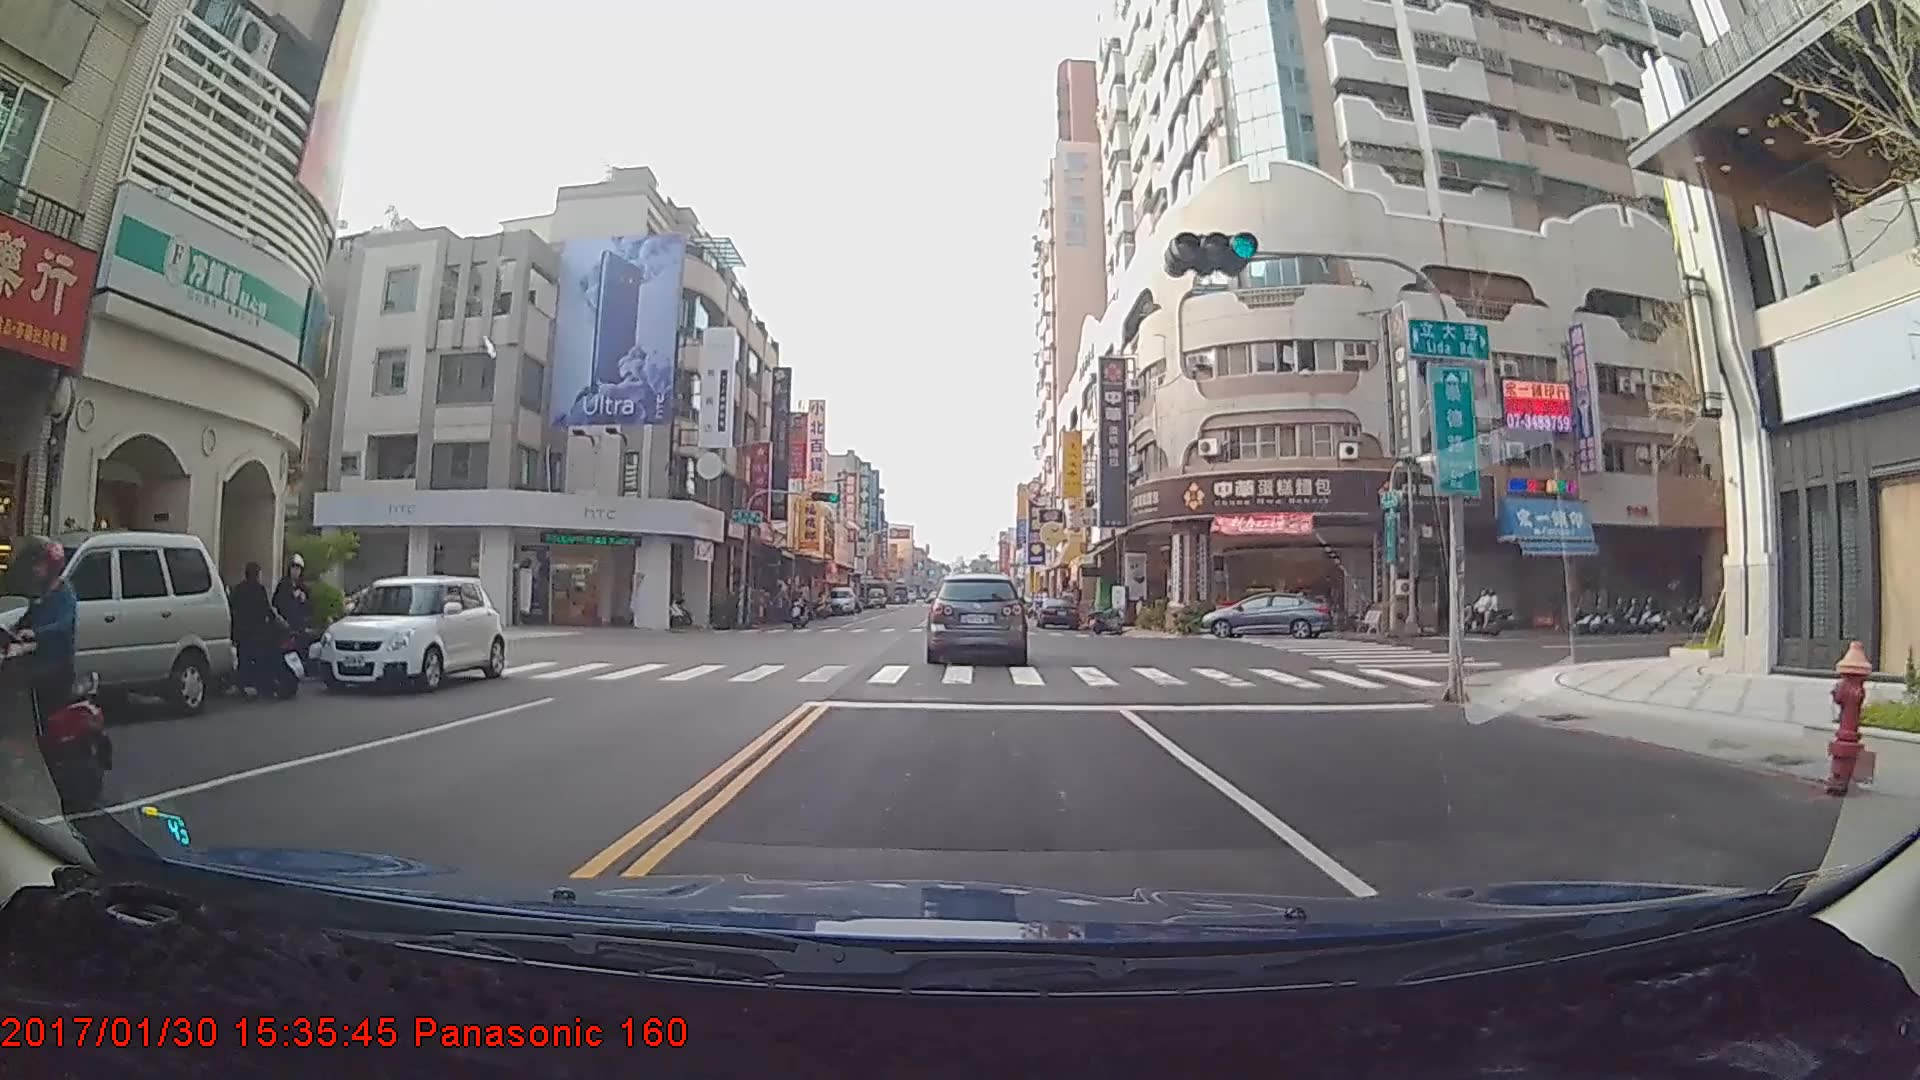pedestrian: (266, 548, 314, 691)
rider: (1, 547, 115, 819), (1449, 584, 1506, 635), (784, 587, 816, 630)
vehicle: (0, 527, 235, 725), (317, 572, 506, 694), (926, 575, 1025, 665), (1202, 588, 1334, 641), (1038, 595, 1080, 629), (826, 583, 856, 613)
